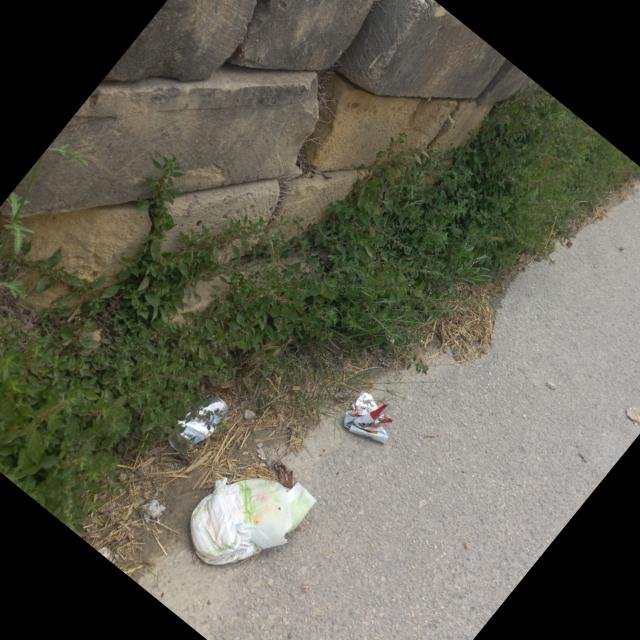Can: (166, 396, 227, 454)
Other litter: (187, 461, 317, 568)
Plastic bag - wrapper: (340, 391, 395, 445)
